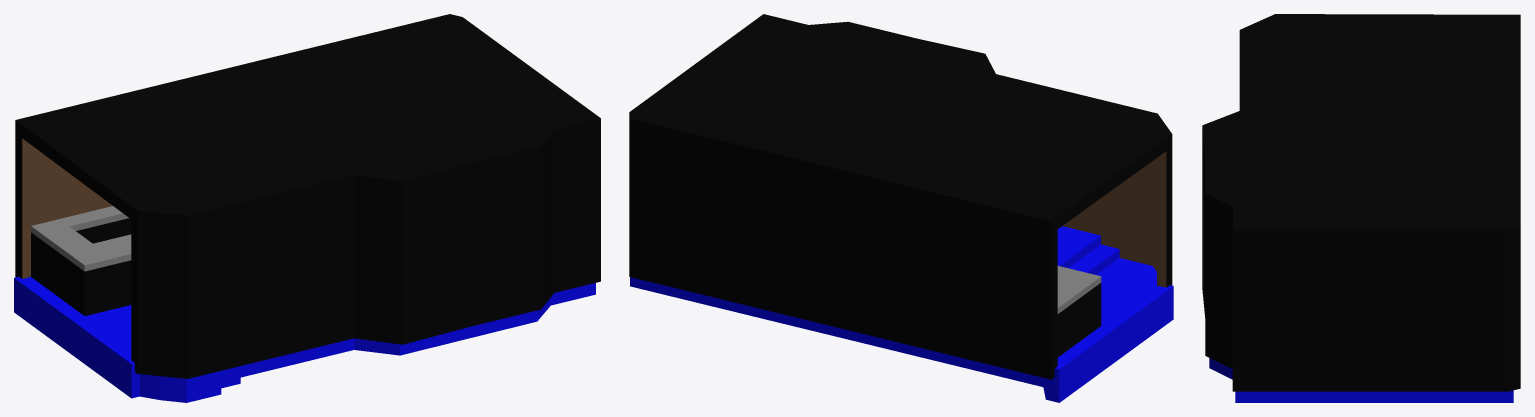
The model's file is new_tavern.glb.
3 renders of one model, left to right at view 1: azimuth 30°, elevation 25°; view 2: azimuth 150°, elevation 25°; view 3: azimuth 270°, elevation 25°, orthographic. The views are drawn at different scales.
Parts seen in each view (by area): view 1: Room.001; view 2: Room.001; view 3: Room.001.
Part boxes in pixels (<box>): Room.001: <box>14,14,600,402</box>; Room.001: <box>629,14,1173,402</box>; Room.001: <box>1202,14,1520,402</box>.
Bounding box in the file's own units: 22.99 × 9.29 × 14.27.
